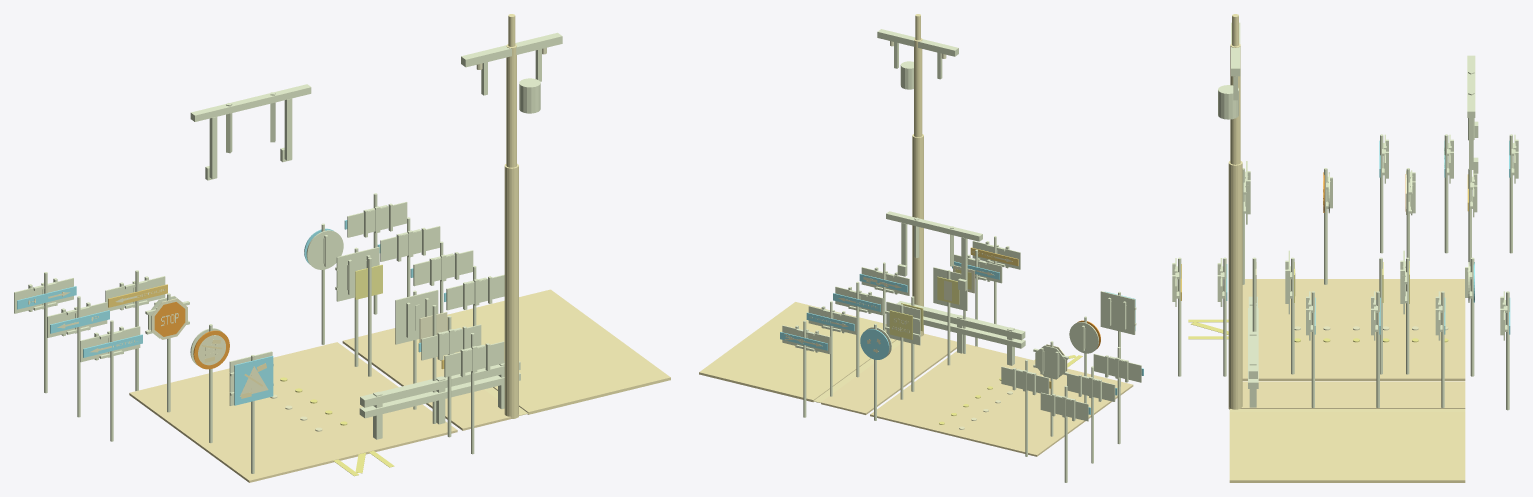
The model's file is scene_sign_test_lane.glb.
The picture shows the model from 3 angles, left to right: view 1: azimuth 30°, elevation 25°; view 2: azimuth 150°, elevation 25°; view 3: azimuth 270°, elevation 25°; orthographic projection. The views are drawn at different scales.
Parts seen in each view (by area): view 1: base, shoulder, back_plate (×12), lane_edge, shaft_lower, plate_base_00 (×2), rail_upper, rail_lower, beam, shaft_upper, crossarm, layer_1_00 (+1 smaller); view 2: base, shoulder, back_plate (×11), lane_edge, shaft_lower, plate_base_00 (×2), rail_upper, rail_lower, beam, shaft_upper, crossarm; view 3: base, shoulder, pole (×14), lane_edge, shaft_lower, shaft_upper, rumble_strip, rail_upper, transformer, beam.
Boxes of the visible parts, x1,y1,x2,y2 form: base: (129, 342, 457, 482); shoulder: (447, 289, 670, 414); back_plate (×12): (14, 202, 504, 377); lane_edge: (342, 328, 518, 430); shaft_lower: (504, 163, 518, 418); plate_base_00 (×2): (234, 264, 382, 405); rail_upper: (360, 361, 520, 407); rail_lower: (359, 372, 520, 418); beam: (190, 84, 311, 121); shaft_upper: (506, 44, 516, 167); crossarm: (461, 32, 562, 67); layer_1_00: (154, 302, 185, 336); base: (870, 344, 1133, 456); shoulder: (699, 302, 896, 402); back_plate (×11): (782, 267, 1141, 421); lane_edge: (821, 333, 956, 414); shaft_lower: (912, 134, 923, 336); plate_base_00 (×2): (860, 310, 912, 359); rail_upper: (896, 301, 1025, 340); rail_lower: (923, 316, 1025, 348); beam: (886, 211, 982, 241); shaft_upper: (914, 38, 922, 137); crossarm: (877, 29, 958, 56); base: (1242, 279, 1465, 380); shoulder: (1229, 412, 1465, 482); pole (×14): (1178, 134, 1512, 410); lane_edge: (1229, 381, 1465, 408); shaft_lower: (1228, 161, 1242, 409); shaft_upper: (1230, 43, 1240, 164); rumble_strip: (1229, 409, 1465, 411); rail_upper: (1248, 296, 1257, 378); transformer: (1218, 85, 1238, 119); beam: (1467, 55, 1475, 117).
Size of the model in its own units: 9.82 by 7.36 by 5.88.
